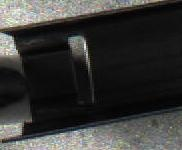press: (0, 9, 127, 145)
